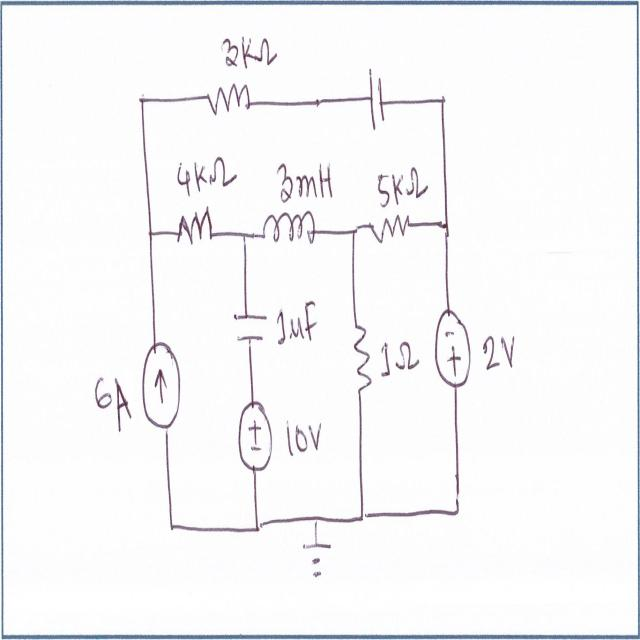capacitor: (364, 61, 388, 138), (233, 306, 268, 348)
current_source: (140, 336, 185, 434)
ground: (299, 538, 334, 584)
inductor: (261, 204, 315, 252)
resistor: (206, 71, 251, 122), (369, 201, 410, 255), (174, 198, 215, 245), (354, 313, 375, 403)
voltage_source: (431, 308, 474, 392), (235, 396, 276, 479)
